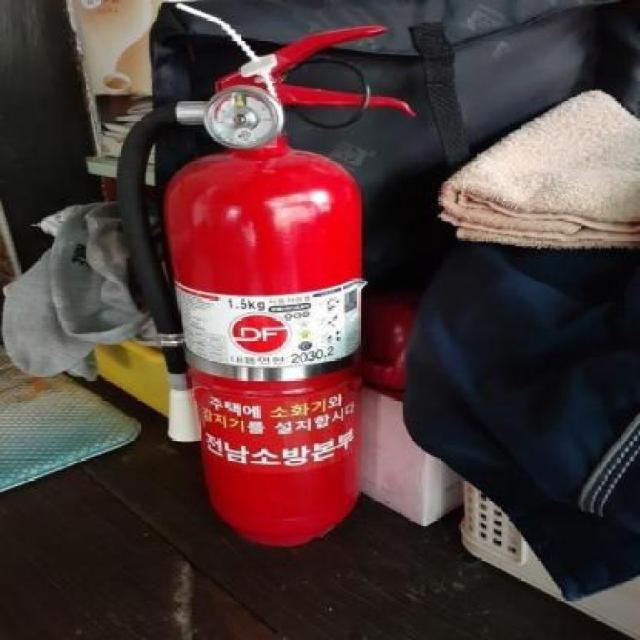fire extinguisher: (118, 25, 418, 547)
